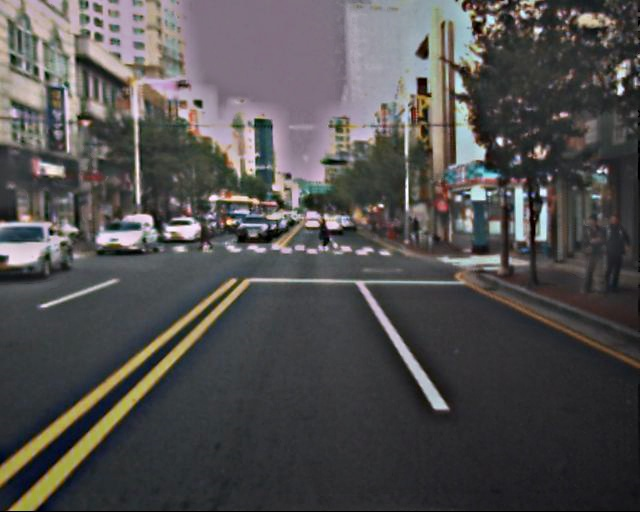person: (577, 218, 628, 299), (198, 218, 214, 256), (316, 220, 331, 257)
